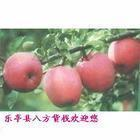apple: (78, 51, 119, 93), (41, 65, 82, 107), (2, 52, 42, 91), (107, 37, 140, 73)
